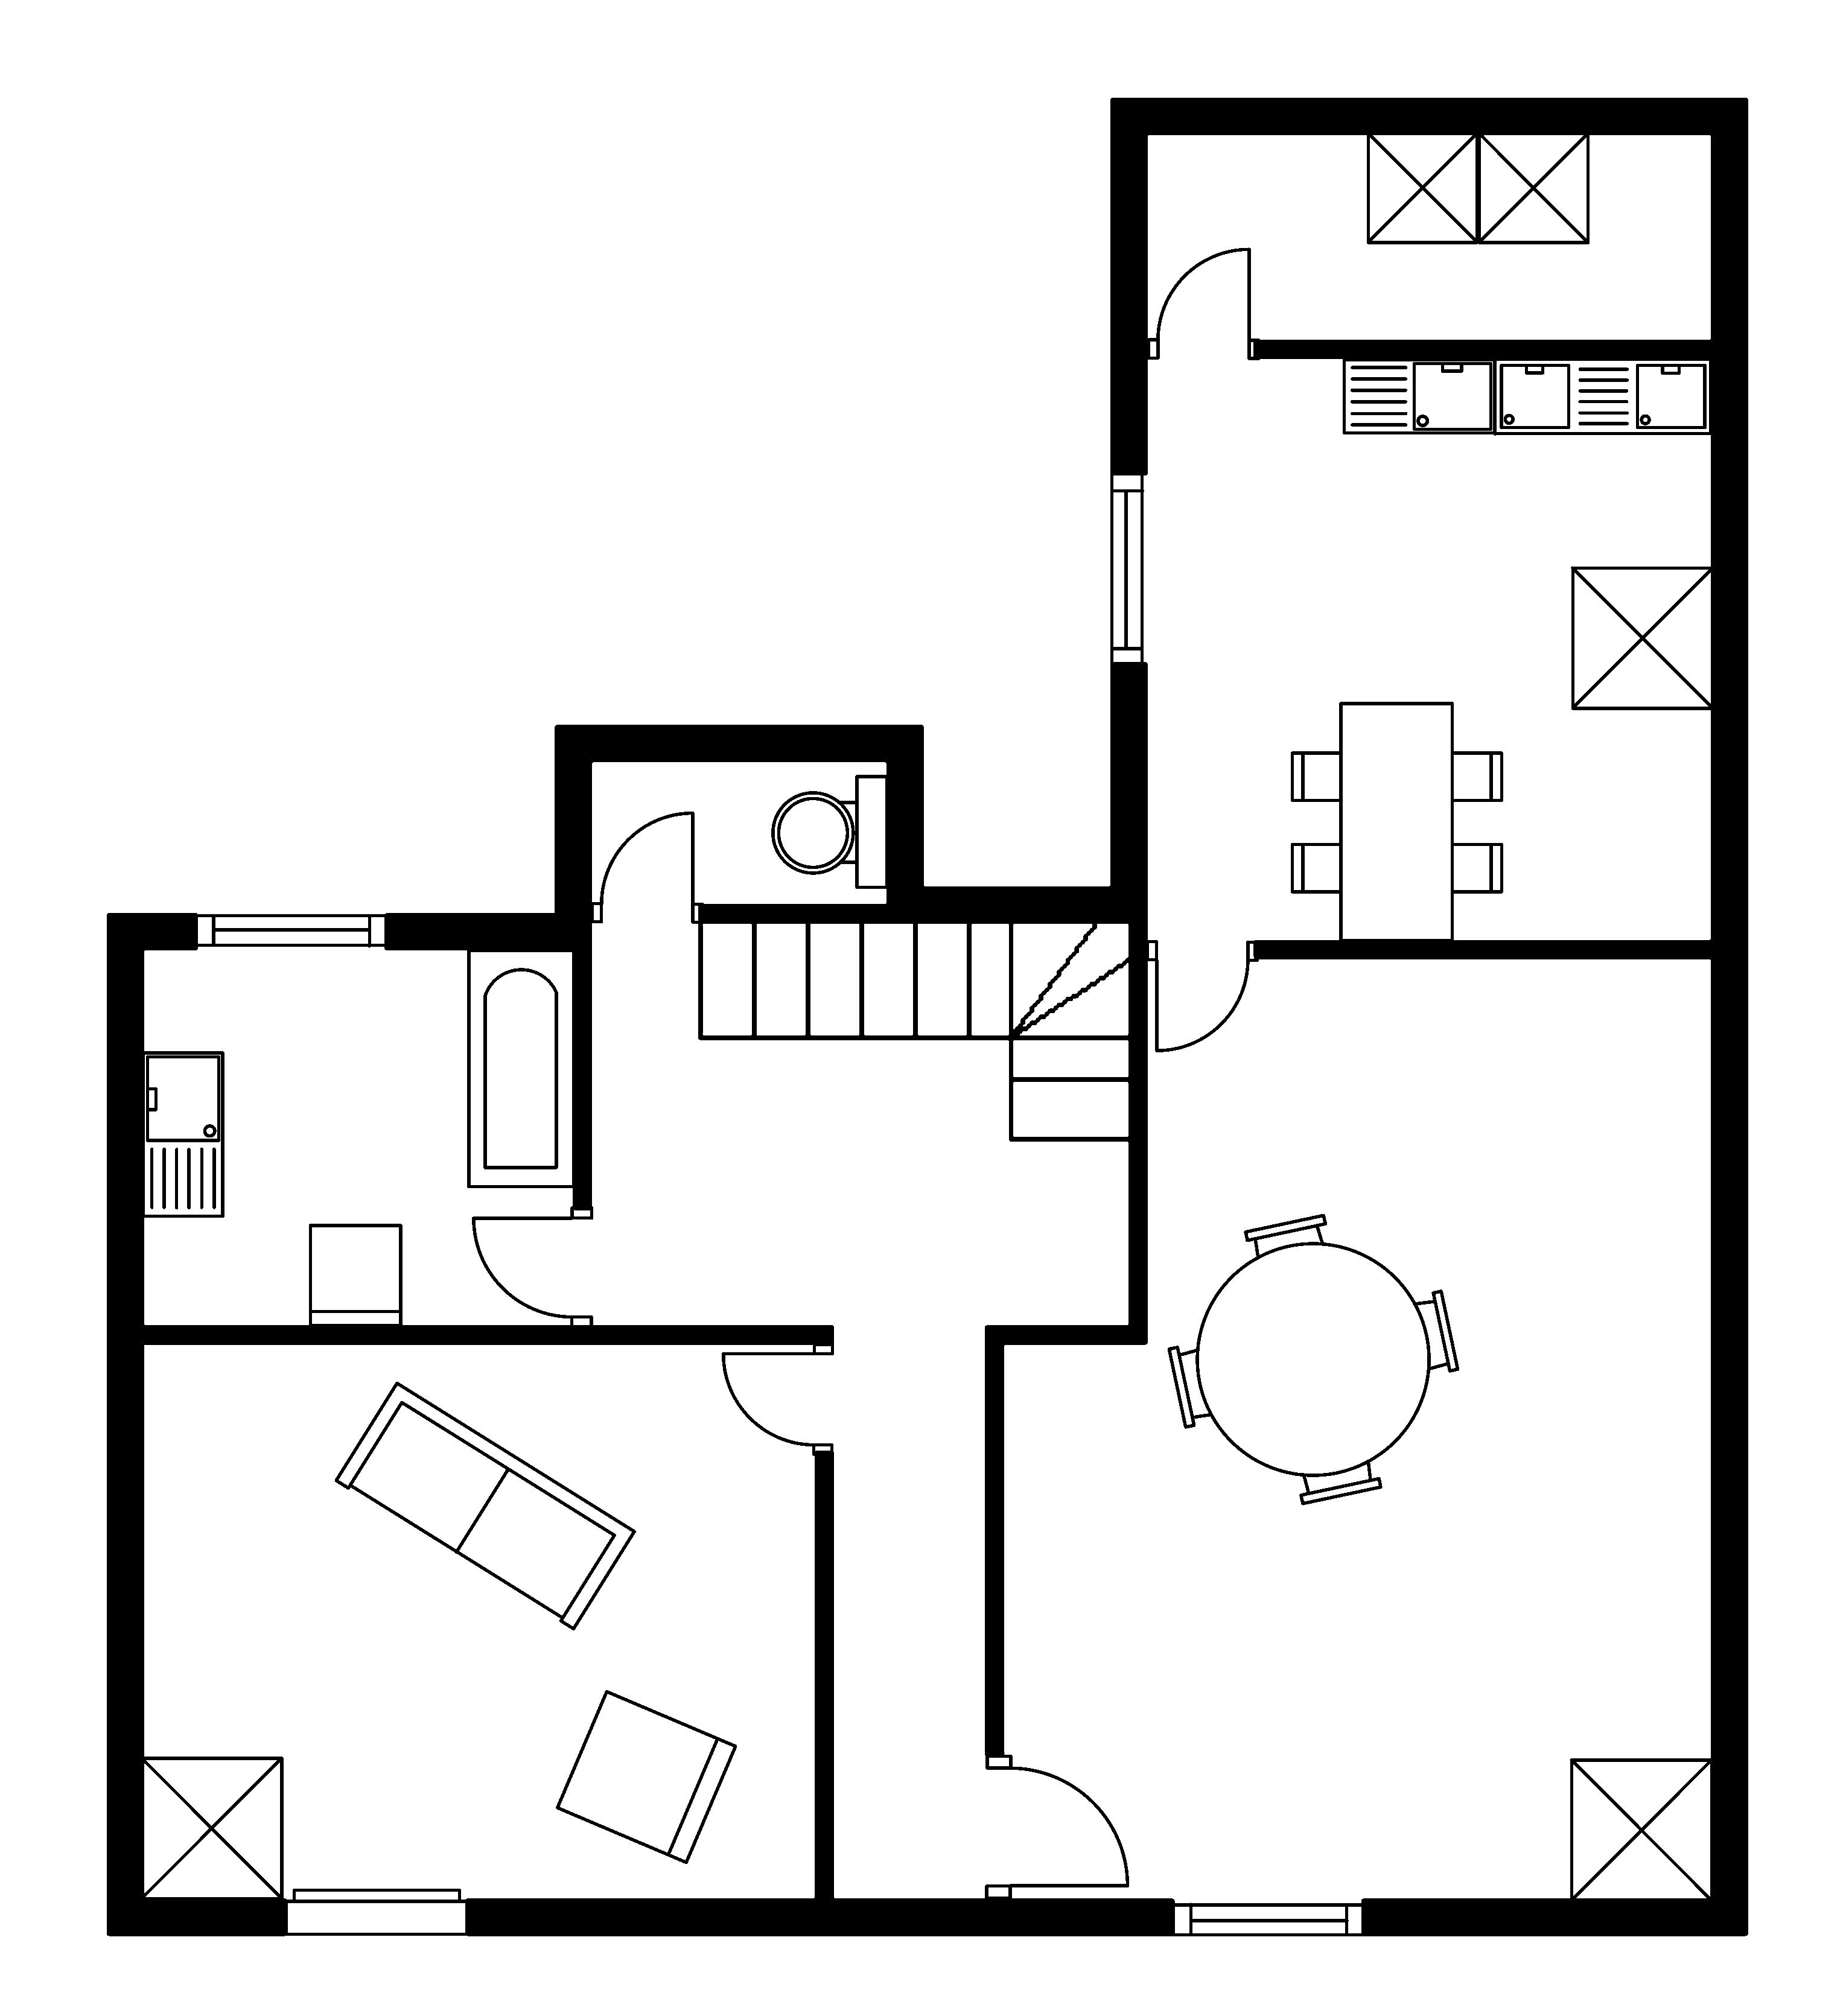coffee_table: (1568, 564, 1714, 711), (1568, 1756, 1714, 1902), (139, 1754, 285, 1900), (1475, 130, 1590, 246), (1365, 130, 1479, 246)
dining_table: (1289, 701, 1503, 943)
large_sink: (771, 773, 889, 889)
large_sofa: (332, 1380, 636, 1631)
round_table: (1166, 1212, 1460, 1507)
sink: (141, 1050, 225, 1219), (1340, 356, 1496, 436)
small_sofa: (553, 1688, 738, 1865), (307, 1222, 404, 1328)
tub: (465, 947, 576, 1189)
twin_sink: (1491, 356, 1713, 436)
